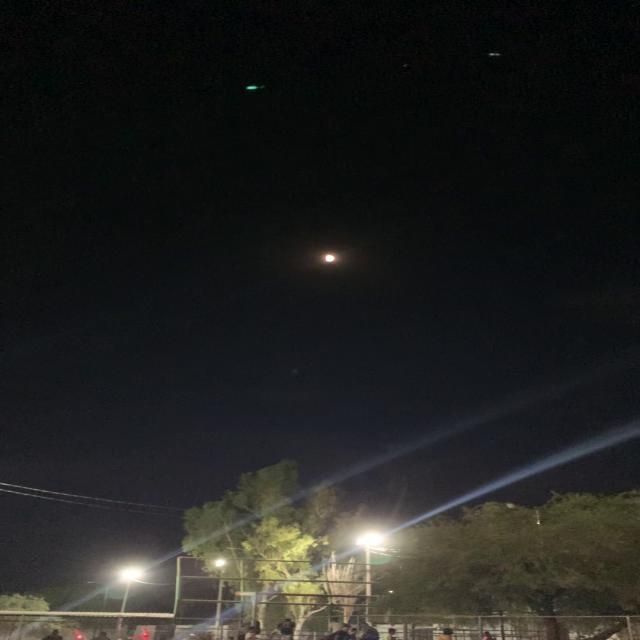moon: (317, 244, 344, 273)
